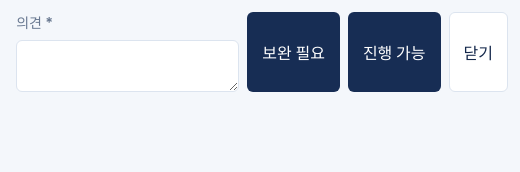
Test: ReviewWorkflowActions › shows legal outcome actions for legal-pending
The image size is (520, 172).
Later steps or results of the test are not shown.
Expected: the button "진행 가능" is shown, [348, 12, 441, 92]
Expected: the button "닫기" is shown, [448, 12, 508, 92]
Click the button "보완 필요".
click(294, 52)  # box [247, 12, 340, 92]
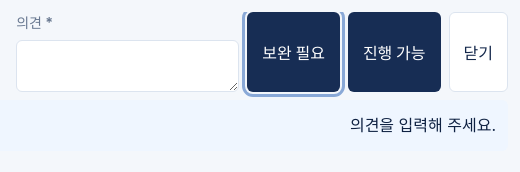
Expected: the message reads "의견을 입력해 주세요.", [350, 115, 496, 135]
